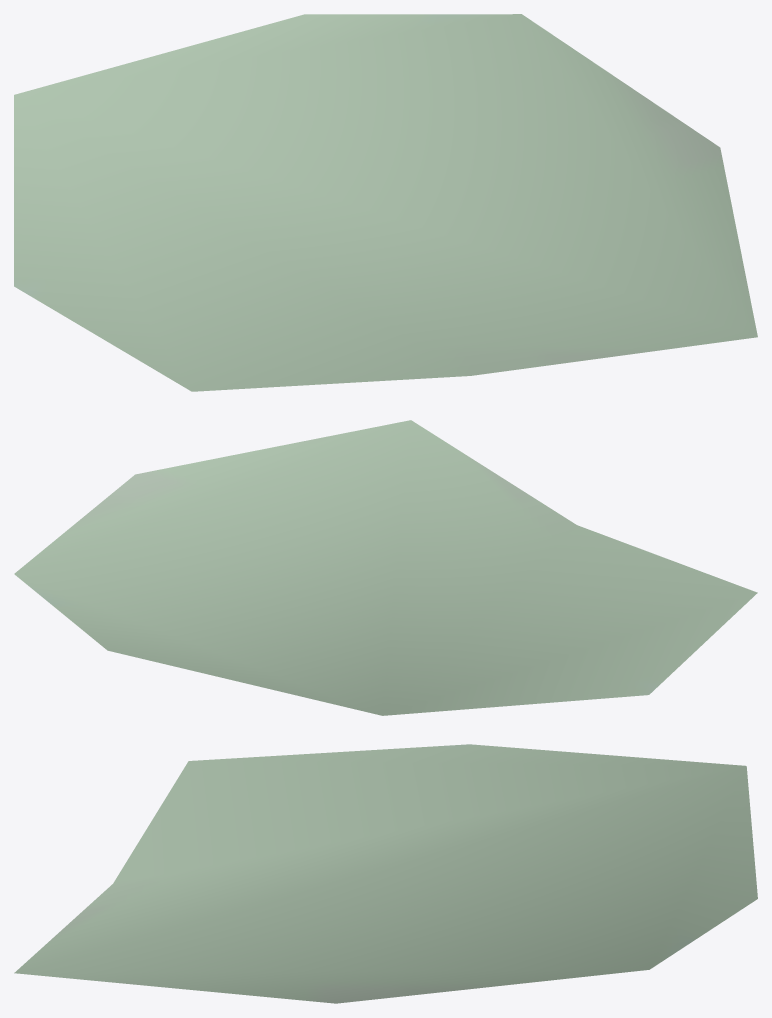
Rendered from TROLLHOLE02_HOLECAP52.fbx.
The picture shows the model from 3 angles, top to bottom: view 1: azimuth 30°, elevation 25°; view 2: azimuth 150°, elevation 25°; view 3: azimuth 270°, elevation 25°; orthographic projection. The views are drawn at different scales.
Visible parts, largest first — view 1: TROLLHOLE02_HOLECAP52; view 2: TROLLHOLE02_HOLECAP52; view 3: TROLLHOLE02_HOLECAP52.
Part boxes in pixels (bbox=[...]): TROLLHOLE02_HOLECAP52: bbox=[14, 14, 757, 391]; TROLLHOLE02_HOLECAP52: bbox=[14, 420, 757, 715]; TROLLHOLE02_HOLECAP52: bbox=[14, 744, 757, 1003].
Bounding box in the file's own units: 18334 × 1992 × 19669.
1 material, 1 textured.
